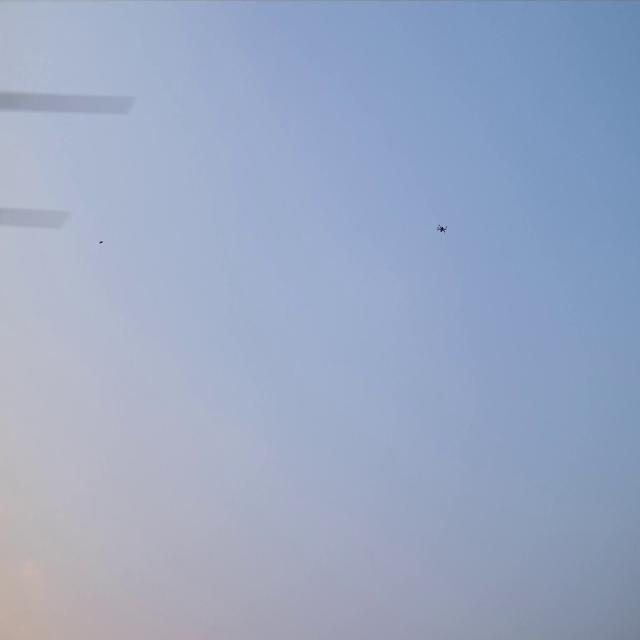UAV: (437, 224, 448, 234)
